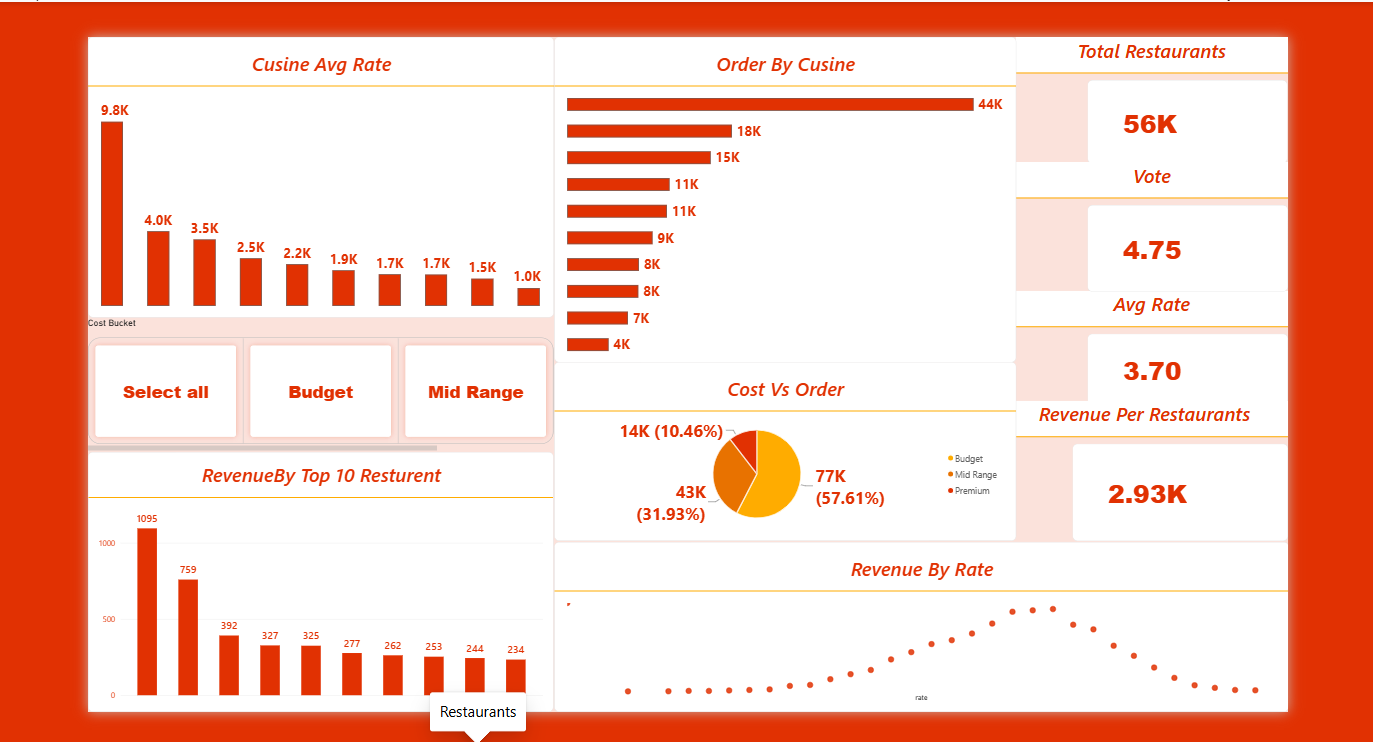

This screenshot's page, from the dashboard's own definition file:
{"tool":"powerbi","page":{"name":"Restaurants","canvas":[1920,1080],"ordinal":2},"visuals":[{"type":"cardVisual","title":"Total Restaurants","fields":{"Data":["Orders.Total Restaurants"]},"box":[1484,0,436,203.1],"z":0},{"type":"cardVisual","title":"Avg Rate","fields":{"Data":["Avg(Restaurants.rate)"]},"box":[1484,406.3,436,183.3],"z":1000},{"type":"cardVisual","title":"Revenue Per Restaurants","fields":{"Data":["Restaurants.Revenue per Restaurant"]},"box":[1459.2,582.2,460.8,225.4],"z":2000},{"type":"cardVisual","title":"Vote","fields":{"Data":["Restaurants.Count of votes average per name"]},"box":[1484,200.7,436,208.1],"z":3000},{"type":"columnChart","title":"RevenueBy Top 10 Resturent","fields":{"Category":["Restaurants.name"],"Y":["Orders.Total Orders"]},"box":[0,664.8,745.1,415.8],"z":4000},{"type":"clusteredBarChart","title":"Order By Cusine","fields":{"Category":["Restaurants.cuisines"],"Y":["Orders.Total Orders"]},"box":[745.1,0,738.9,520.8],"z":5000},{"type":"columnChart","title":"Cusine Avg Rate","fields":{"Category":["Restaurants.cuisines"],"Y":["CountNonNull(Restaurants.rate)"]},"box":[0,0,745.7,448.4],"z":6000},{"type":"scatterChart","title":"Revenue By Rate","fields":{"X":["Restaurants.rate","Restaurants.name"],"Y":["Orders.Total Orders"]},"box":[745.1,808.9,1175.3,271.7],"z":7000},{"type":"pieChart","title":"Cost Vs Order","fields":{"Category":["Restaurants.Cost Bucket"],"Y":["Orders.Total Orders"]},"box":[745.1,520.8,738.9,286.1],"z":8000},{"type":"advancedSlicerVisual","fields":{"Values":["Restaurants.Cost Bucket"]},"box":[0,448.7,745.1,216.1],"z":8001}]}

Visuals, with their boxes on the page's 1920x1080 design canvas (x1, y1, x2, y2). These are canvas units, not pixel positions in the 1373x742 screenshot, which may show the page scaled, cropped or inside an application window:
"Total Restaurants" cardVisual: rect(1484, 0, 1920, 203)
"Avg Rate" cardVisual: rect(1484, 406, 1920, 590)
"Revenue Per Restaurants" cardVisual: rect(1459, 582, 1920, 808)
"Vote" cardVisual: rect(1484, 201, 1920, 409)
"RevenueBy Top 10 Resturent" columnChart: rect(0, 665, 745, 1081)
"Order By Cusine" clusteredBarChart: rect(745, 0, 1484, 521)
"Cusine Avg Rate" columnChart: rect(0, 0, 746, 448)
"Revenue By Rate" scatterChart: rect(745, 809, 1920, 1081)
"Cost Vs Order" pieChart: rect(745, 521, 1484, 807)
advancedSlicerVisual - Restaurants.Cost Bucket: rect(0, 449, 745, 665)
